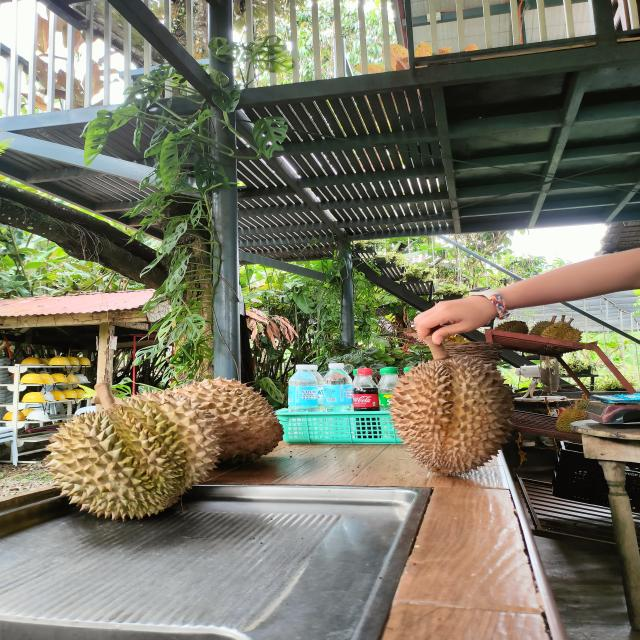mature: (390, 356, 512, 476), (172, 378, 283, 462)
